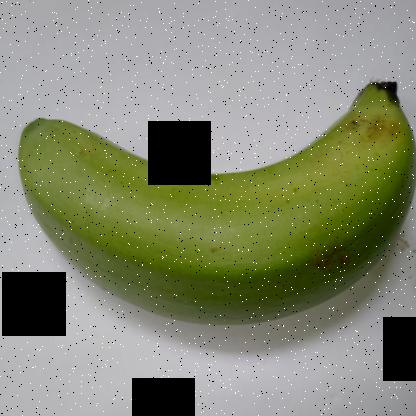freshunripe: (6, 69, 415, 339)
